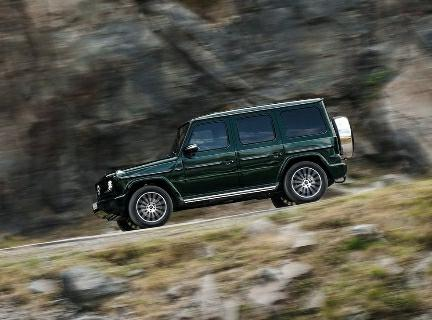car: (74, 100, 365, 230)
